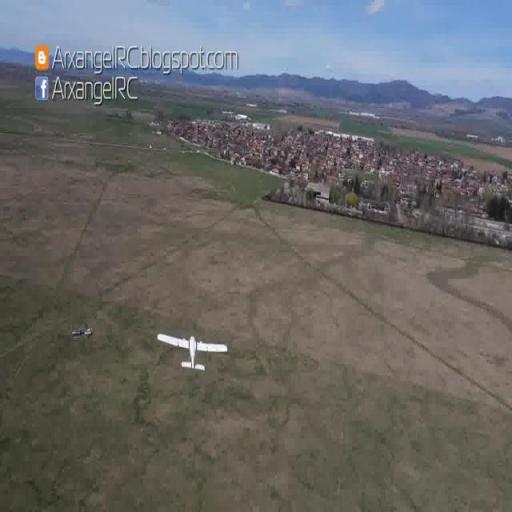uav: (155, 322, 232, 378)
